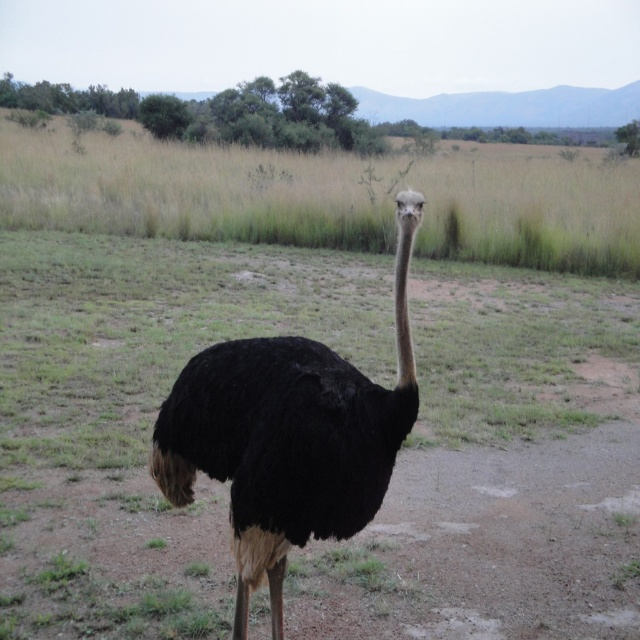Ostrich: (148, 186, 428, 640)
